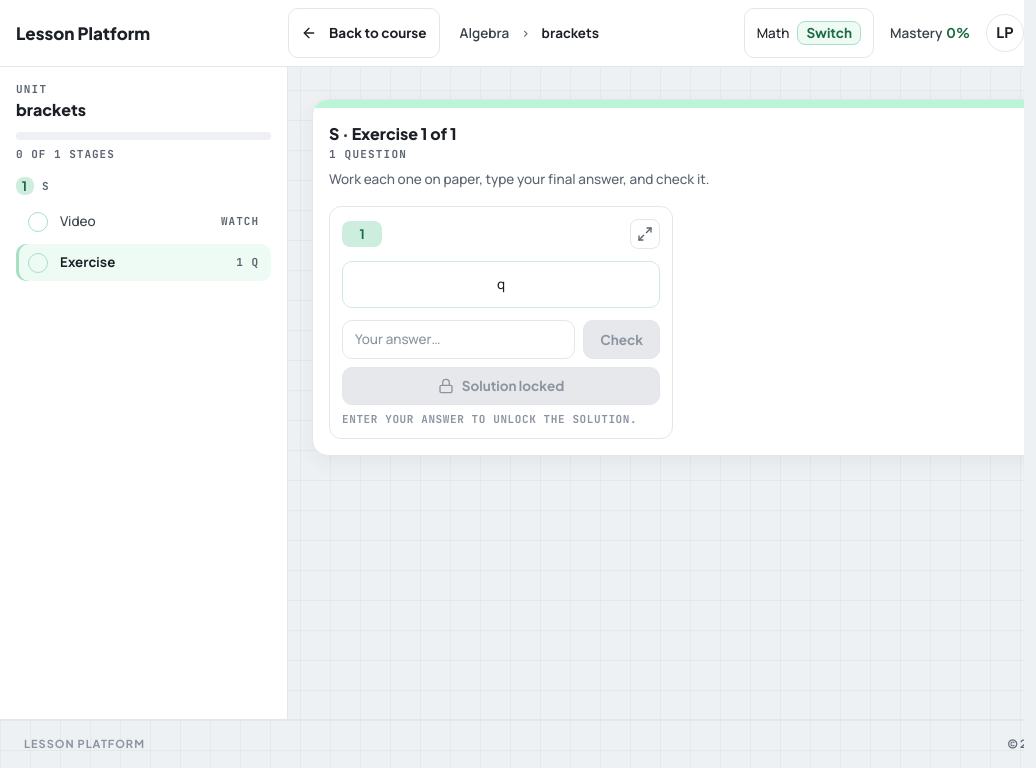
ExercisePage — completion & gating › the Solution button is LOCKED until the question is answered (§8)
expect the button "Solution locked" is disabled: met, box [342, 367, 660, 405]
Type "x+1" into the field labelled "Your answer" at (459, 339), box [342, 320, 575, 359]
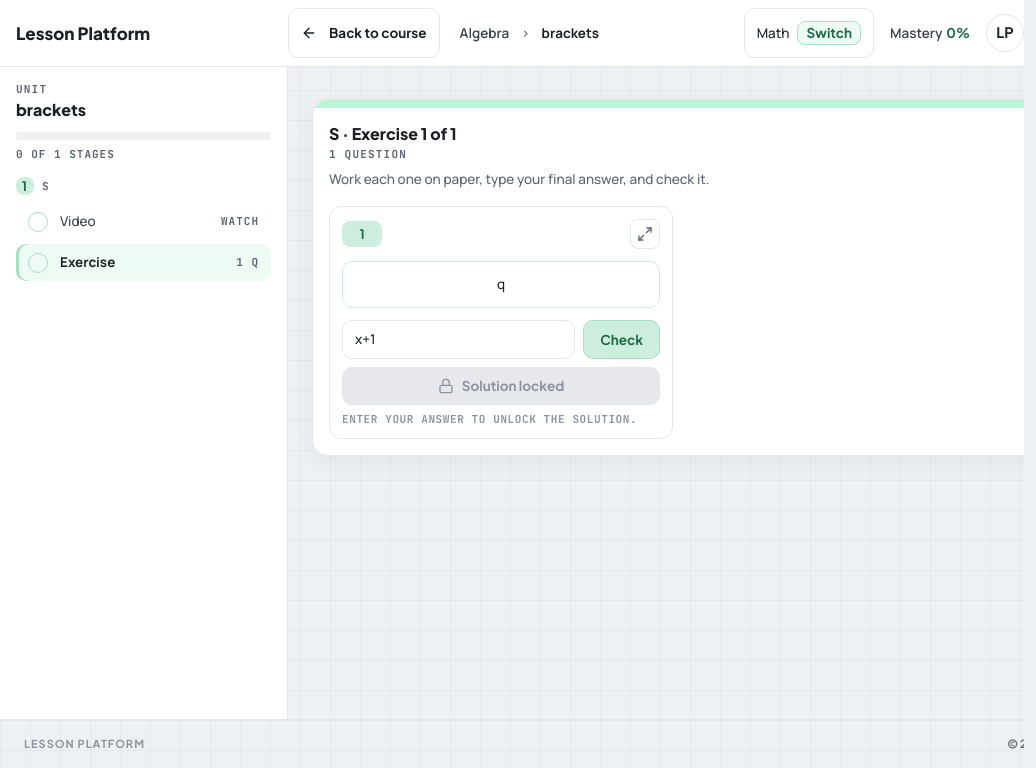
Click the button "Check" at (622, 339), box [583, 320, 660, 359]
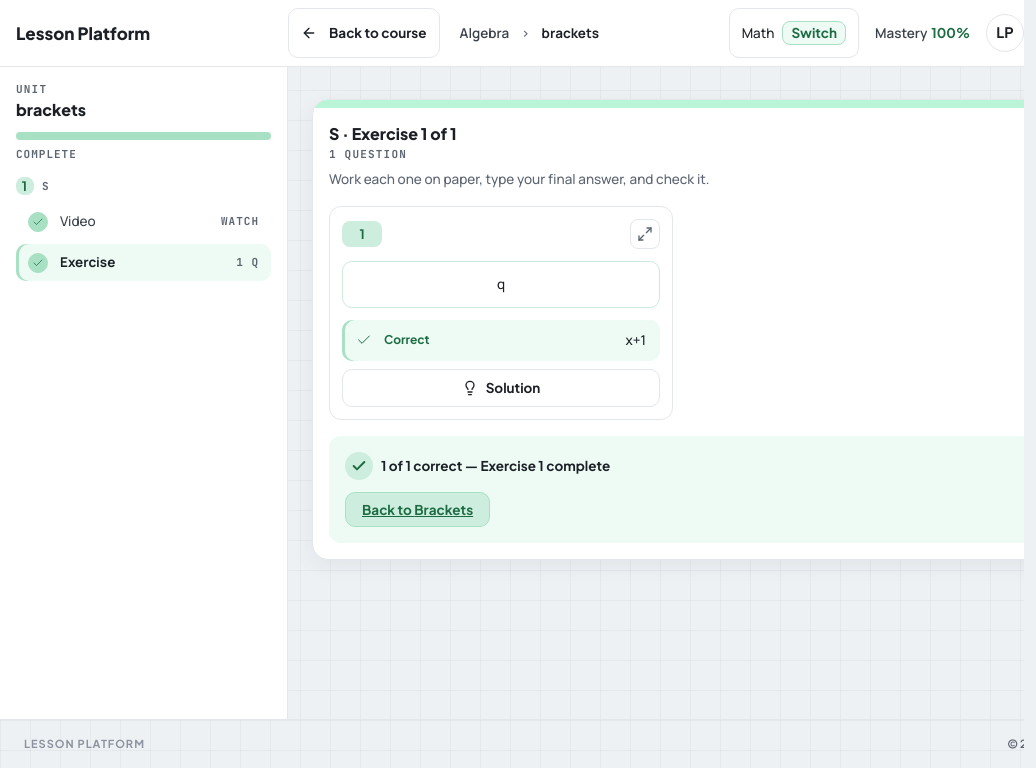
expect the button "Solution" is enabled: met, box [342, 369, 660, 407]
